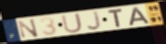3: (40, 16, 58, 37)
A: (128, 7, 152, 27)
J: (87, 10, 104, 31)
N: (17, 18, 41, 39)
T: (107, 8, 124, 28)
U: (61, 12, 84, 34)
